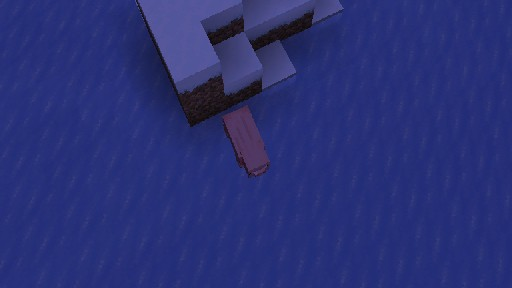pig: (221, 104, 269, 178)
